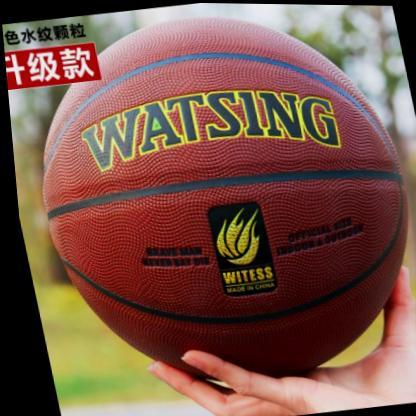basketball: (4, 0, 416, 399)
